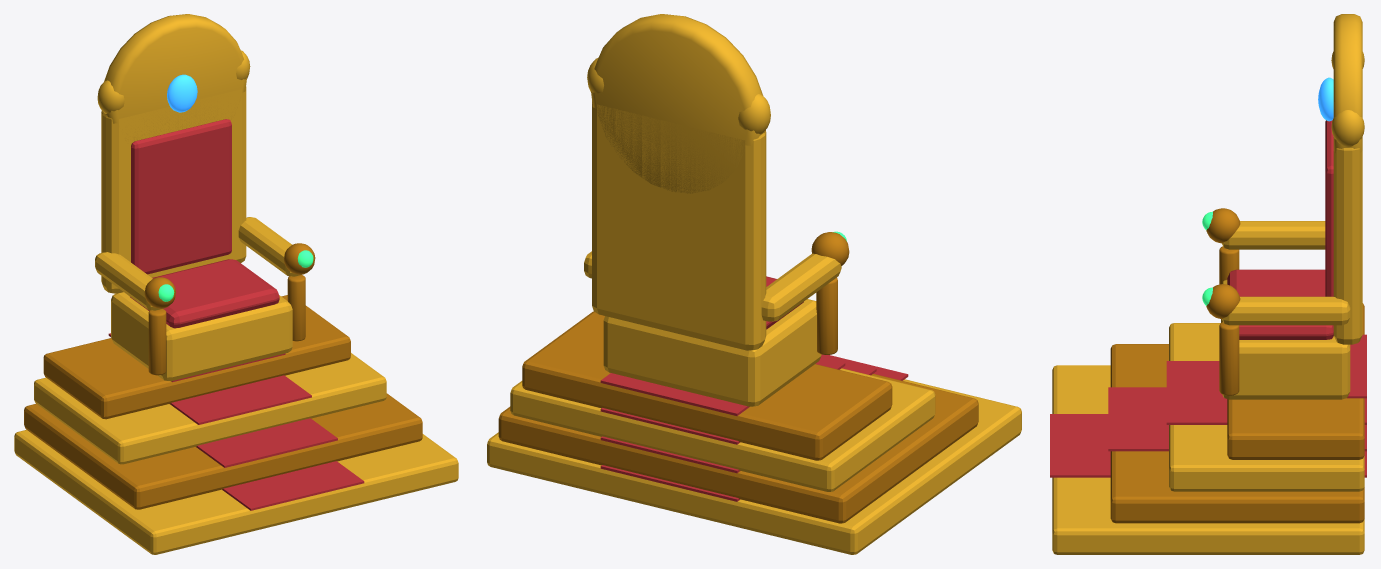
File: throne.glb
3 views of the same model, side by side, from view 1: azimuth 30°, elevation 25°; view 2: azimuth 150°, elevation 25°; view 3: azimuth 270°, elevation 25° (orthographic). The views are drawn at different scales.
Parts seen in each view (by area): view 1: throne; view 2: throne; view 3: throne.
Part boxes in pixels (left/top/right/bottom): throne: left=14, top=14, right=458, bottom=554; throne: left=487, top=14, right=1021, bottom=554; throne: left=1050, top=14, right=1366, bottom=554.
Bounding box in the file's own units: 1.9 × 2.39 × 1.52.
